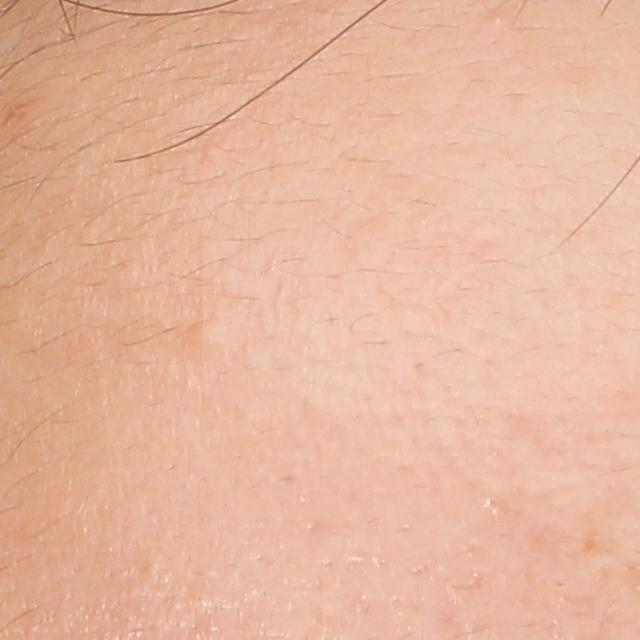comedo: (490, 13, 504, 26)
